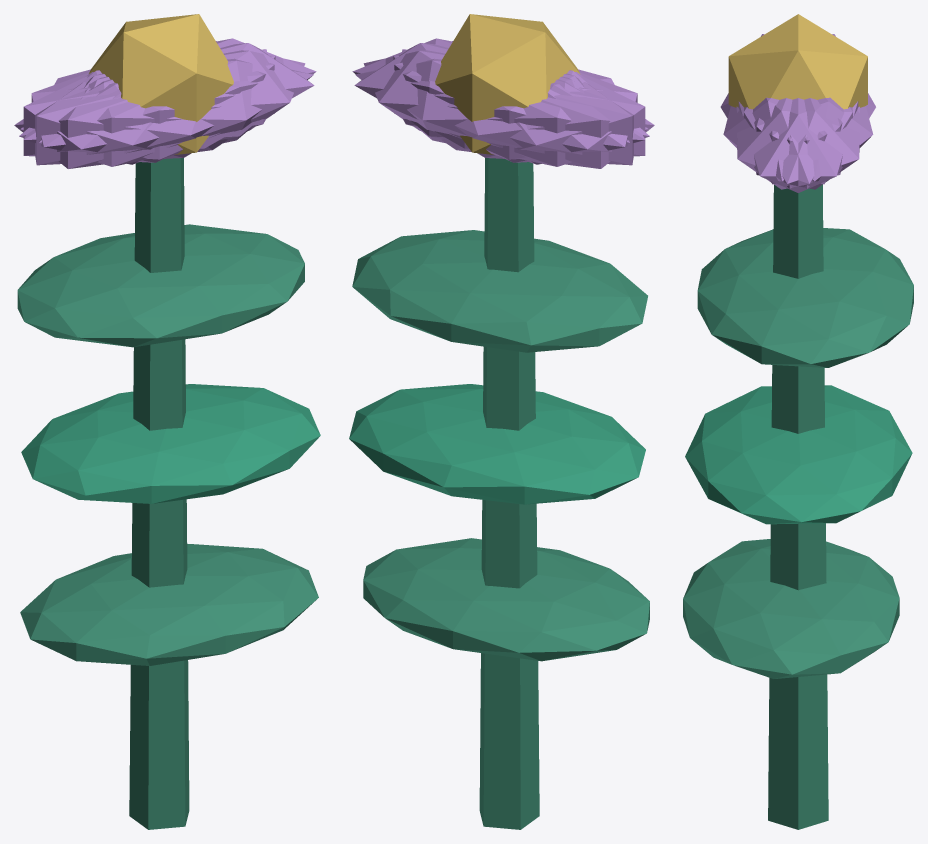
Rendered from capparis-micracantha.glb.
The picture shows the model from 3 angles, left to right: view 1: azimuth 30°, elevation 25°; view 2: azimuth 150°, elevation 25°; view 3: azimuth 270°, elevation 25°; orthographic projection.
Parts seen in each view (by area): view 1: leaf1, leaf0, leaf2, stem, center, petal1, petal6, petal2, petal5, petal7, petal0, petal4 (+2 smaller); view 2: leaf2, leaf1, stem, leaf0, center, petal8, petal3, petal7, petal4, petal2, petal0, petal5 (+2 smaller); view 3: leaf1, leaf2, leaf0, stem, center, petal0, petal4, petal5, petal8, petal1.
Boxes of the visible parts, left/top/right/bottom form: leaf1: left=21, top=384, right=320, bottom=503; leaf0: left=20, top=544, right=318, bottom=665; leaf2: left=17, top=224, right=304, bottom=347; stem: left=129, top=158, right=189, bottom=829; center: left=89, top=14, right=233, bottom=154; petal1: left=19, top=58, right=313, bottom=166; petal6: left=14, top=72, right=227, bottom=168; petal2: left=35, top=49, right=266, bottom=165; petal5: left=39, top=50, right=305, bottom=159; petal7: left=23, top=55, right=275, bottom=162; petal0: left=88, top=43, right=314, bottom=149; petal4: left=20, top=38, right=316, bottom=140; leaf2: left=352, top=230, right=647, bottom=352; leaf1: left=349, top=384, right=645, bottom=504; stem: left=479, top=158, right=539, bottom=829; leaf0: left=363, top=538, right=649, bottom=661; center: left=435, top=14, right=580, bottom=154; petal8: left=355, top=58, right=649, bottom=166; petal3: left=441, top=72, right=654, bottom=168; petal7: left=402, top=49, right=633, bottom=165; petal4: left=363, top=50, right=629, bottom=159; petal2: left=393, top=55, right=645, bottom=162; petal0: left=354, top=43, right=580, bottom=149; petal5: left=352, top=38, right=648, bottom=140; leaf1: left=685, top=385, right=912, bottom=524; leaf2: left=697, top=228, right=913, bottom=367; leaf0: left=683, top=539, right=899, bottom=678; stem: left=768, top=184, right=828, bottom=829; center: left=728, top=14, right=867, bottom=109; petal0: left=738, top=98, right=858, bottom=192; petal4: left=744, top=98, right=859, bottom=189; petal5: left=736, top=98, right=852, bottom=189; petal8: left=754, top=97, right=873, bottom=181; petal1: left=723, top=97, right=842, bottom=181.
Size of the model in its own units: 0.1452 by 0.38 by 0.1014.
